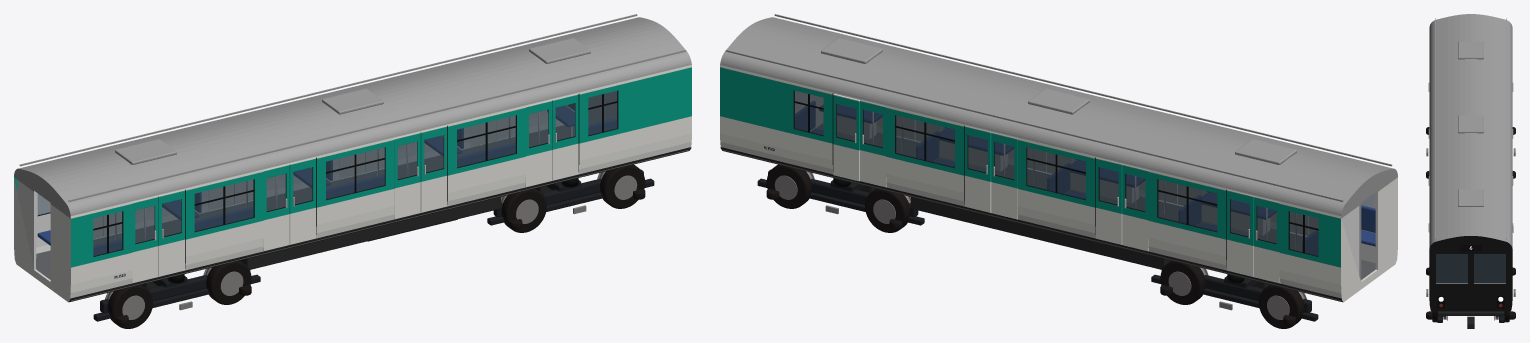
File: mp73_cab.glb
The picture shows the model from 3 angles, left to right: view 1: azimuth 30°, elevation 25°; view 2: azimuth 150°, elevation 25°; view 3: azimuth 270°, elevation 25°; orthographic projection. The views are drawn at different scales.
Visible parts, largest first — view 1: METRO_MP73_L6-Reno-5voit_V1_Caisse, METRO_MP73_L6-Reno-5voit_V1_BaieG1; view 2: METRO_MP73_L6-Reno-5voit_V1_Caisse, METRO_MP73_L6-Reno-5voit_V1_BaieG1; view 3: METRO_MP73_L6-Reno-5voit_V1_Caisse, METRO_MP73_L6-Reno-5voit_V1_BaieG1.
Boxes of the visible parts, left/top/right/bottom form: METRO_MP73_L6-Reno-5voit_V1_Caisse: left=14, top=14, right=691, bottom=328; METRO_MP73_L6-Reno-5voit_V1_BaieG1: left=37, top=91, right=617, bottom=256; METRO_MP73_L6-Reno-5voit_V1_Caisse: left=720, top=14, right=1397, bottom=328; METRO_MP73_L6-Reno-5voit_V1_BaieG1: left=794, top=91, right=1374, bottom=256; METRO_MP73_L6-Reno-5voit_V1_Caisse: left=1426, top=14, right=1515, bottom=328; METRO_MP73_L6-Reno-5voit_V1_BaieG1: left=1436, top=254, right=1505, bottom=283.
Size of the model in its own units: 15.65 by 3.49 by 2.6.
6 materials, 1 textured.
